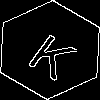K: (25, 25, 85, 81)
